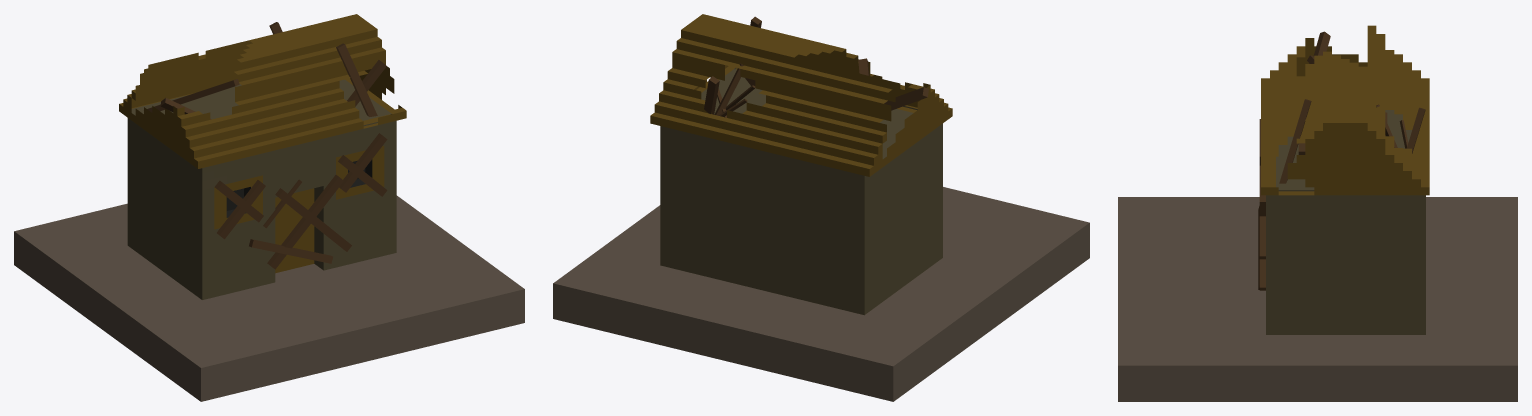
The model's file is house-0.glb.
3 views of the same model, side by side, from view 1: azimuth 30°, elevation 25°; view 2: azimuth 150°, elevation 25°; view 3: azimuth 270°, elevation 25° (orthographic). The views are drawn at different scales.
Parts seen in each view (by area): view 1: Grid.094; view 2: Grid.094; view 3: Grid.094.
Part boxes in pixels (x1,y1,x2,y2): Grid.094: (14,14,524,401); Grid.094: (553,14,1089,401); Grid.094: (1118,25,1517,401).
Bounding box in the file's own units: 1 × 0.7006 × 1.
